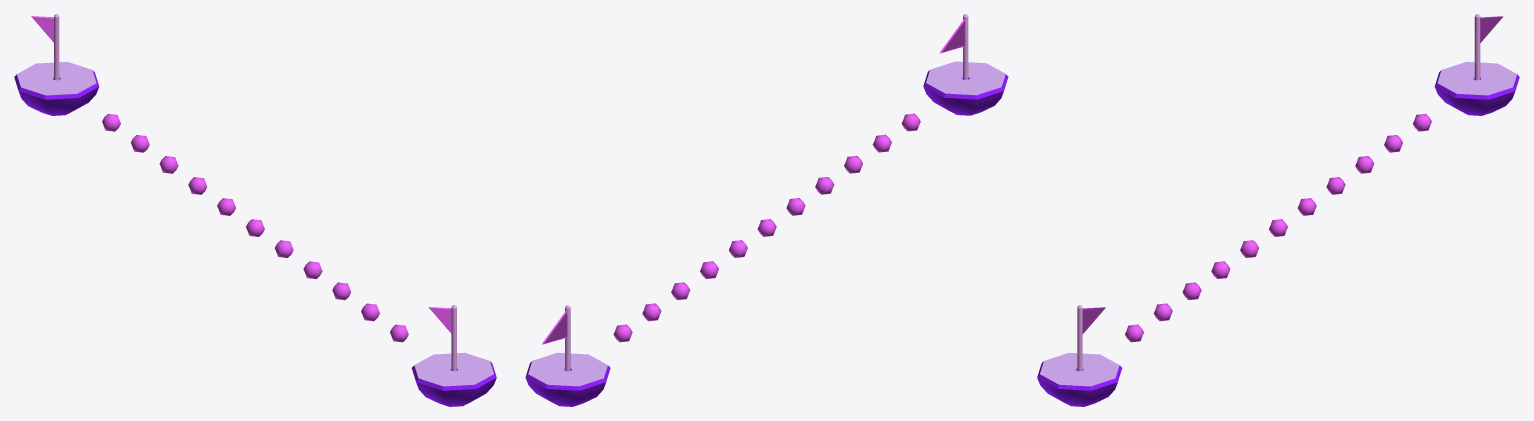
Rendered from MarkLine.fbx.
3 renders of one model, left to right at view 1: azimuth 30°, elevation 25°; view 2: azimuth 150°, elevation 25°; view 3: azimuth 330°, elevation 25°, orthographic.
Visible parts, largest first — view 1: MarkLine_LOD0; view 2: MarkLine_LOD0; view 3: MarkLine_LOD0.
Part boxes in pixels (x1,y1,x2,y2): MarkLine_LOD0: (14,14,496,406); MarkLine_LOD0: (525,14,1008,406); MarkLine_LOD0: (1037,14,1519,406).
Size of what is drawn, in the model's own units: 34.03 by 41.54 by 344.
